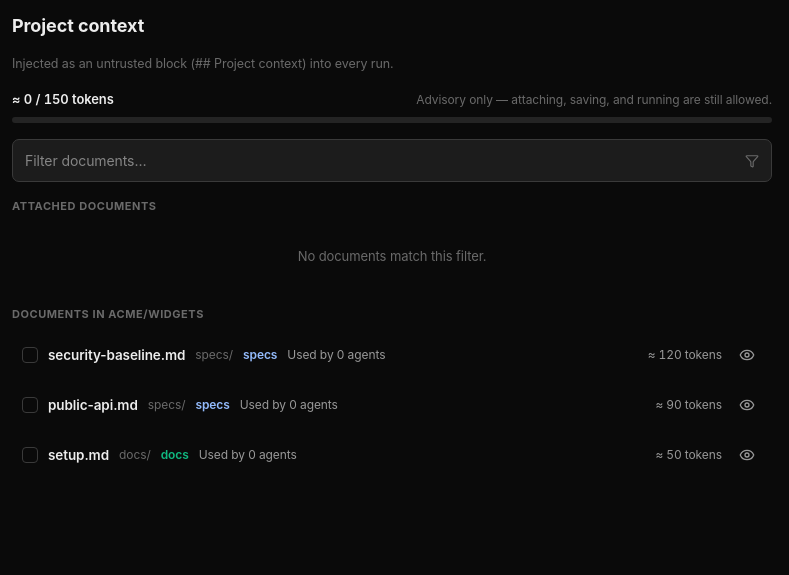
Test: ContextTab › attaching past the budget shows an over-budget state naming the same tail dropped_paths the API reports, and never disables attaching (AC-40, AC-41)
What coordinates should you click on to do the following:
click the checkbox named "security-baseline.md"
I would click on:
 (30, 355)
Its box is [22,347,38,363].
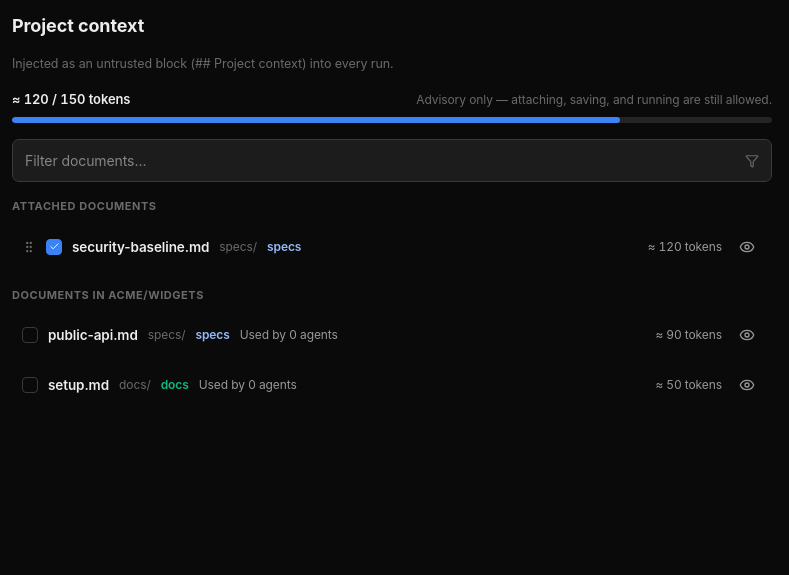
expect the text "≈ 120 / 150 tokens" is shown: met, box [12,90,130,109]
What coordinates should you click on to do the following:
click the checkbox named "public-api.md"
I would click on:
 (30, 335)
Its box is [22,327,38,343].
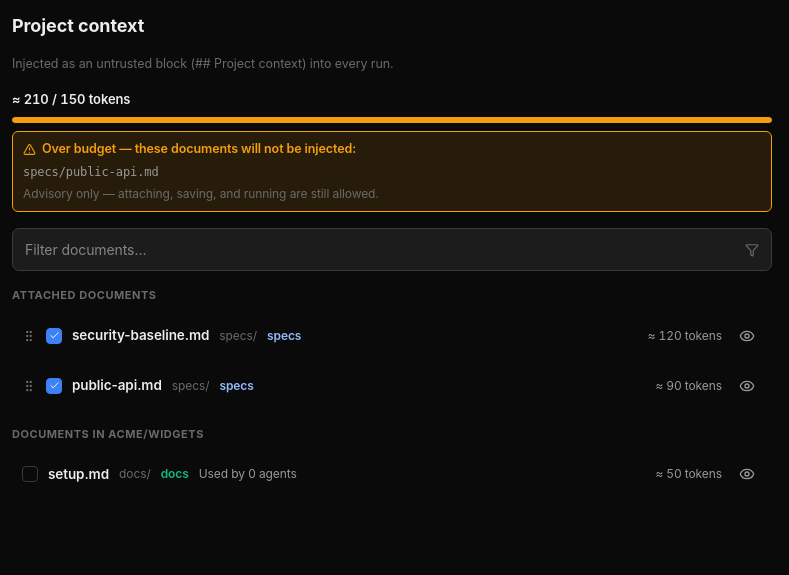
expect the text "≈ 210 / 150 tokens" is shown: met, box [12,90,130,109]
expect the text "specs/public-api.md" is shown: met, box [23,165,159,179]
What coordinates should you click on to do the following:
click the checkbox named "setup.md"
I would click on:
 (30, 474)
Its box is [22,466,38,482].
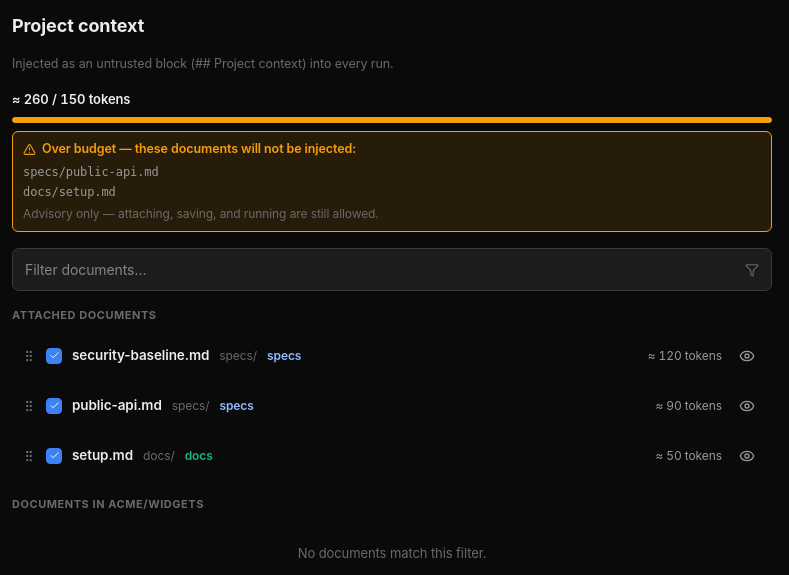
expect the text "≈ 260 / 150 tokens" is shown: met, box [12,90,130,109]
